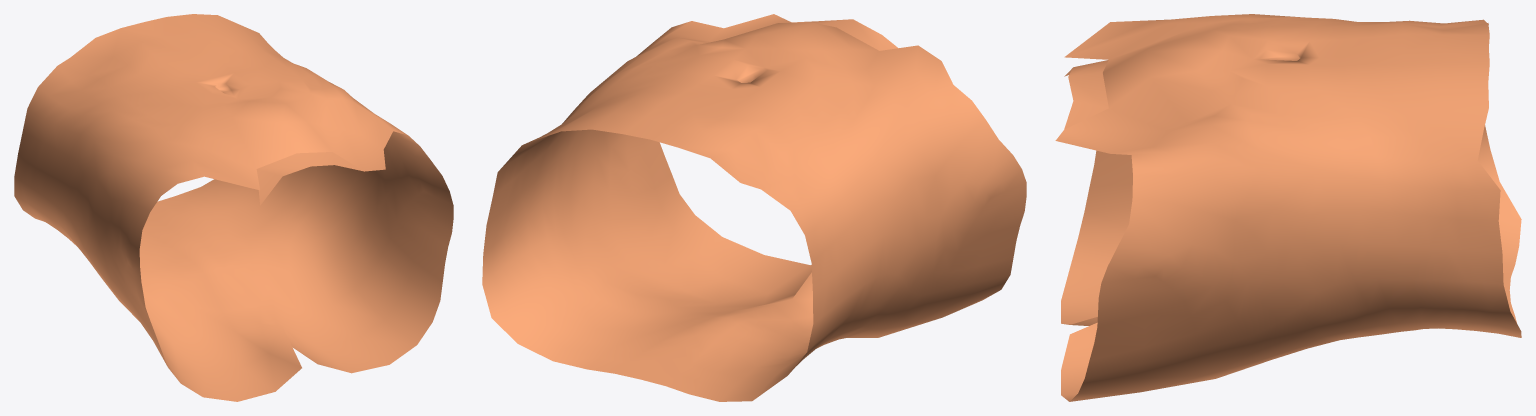
File: Abdomen.gltf
3 views of the same model, side by side, from view 1: azimuth 30°, elevation 25°; view 2: azimuth 150°, elevation 25°; view 3: azimuth 270°, elevation 25° (orthographic). The views are drawn at different scales.
Parts seen in each view (by area): view 1: human_male_base03.004; view 2: human_male_base03.004; view 3: human_male_base03.004.
Boxes of the visible parts, x1,y1,x2,y2 form: human_male_base03.004: [14, 14, 453, 401]; human_male_base03.004: [482, 14, 1026, 401]; human_male_base03.004: [1055, 14, 1521, 401].
Bounding box in the file's own units: 4.82 × 3.5 × 4.94.
